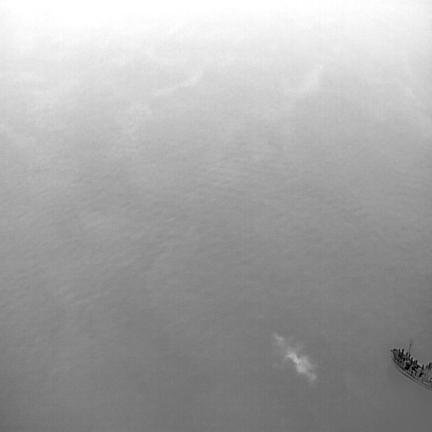flukeprints: (286, 347, 315, 381)
